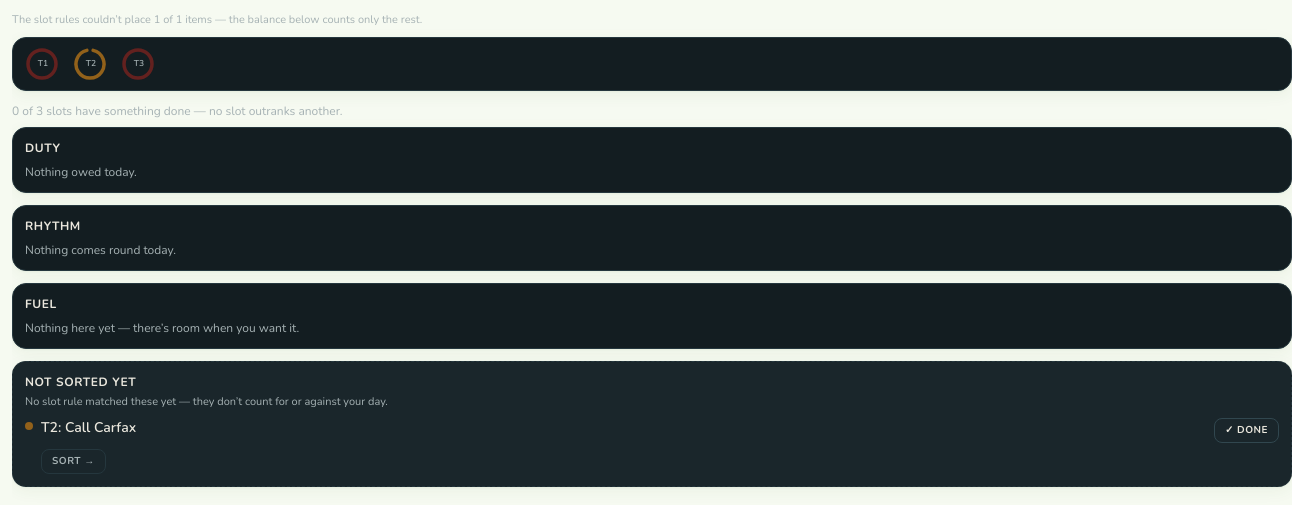
Test: the row moves, and moves honestly › leaves NOT SORTED and appears in its slot on the same render
Check: the element with test id "board-stack-unslotted" is shown, box [12,360,1291,487]
Click the button with test id "board-sort-open".
click(73, 462)  # box [41,449,106,474]
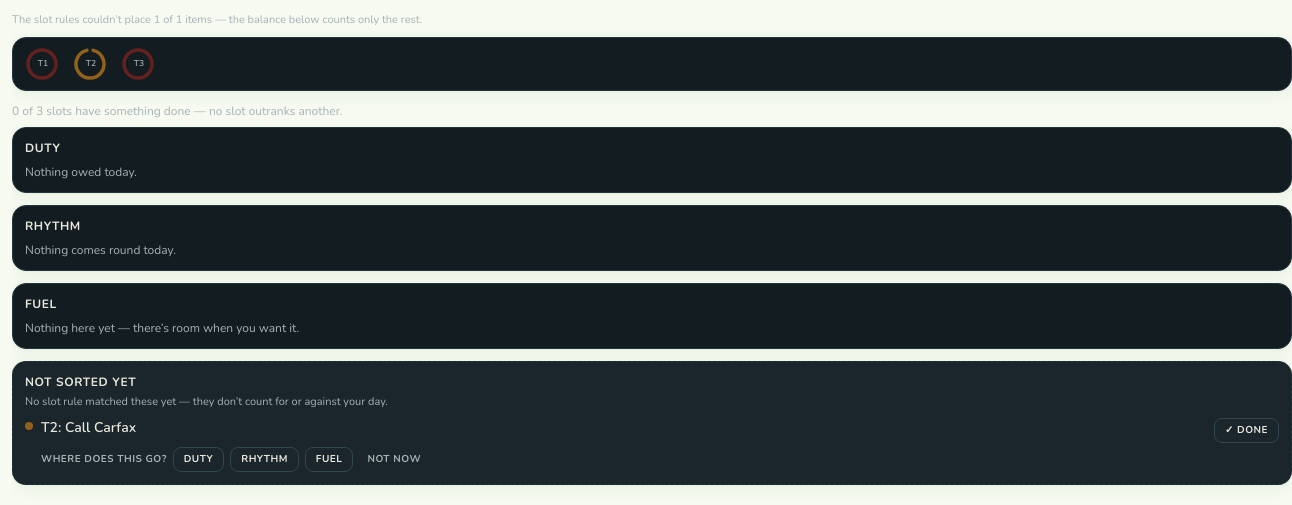
Click the button with test id "board-sort-duty".
click(198, 460)  # box [173,447,224,472]
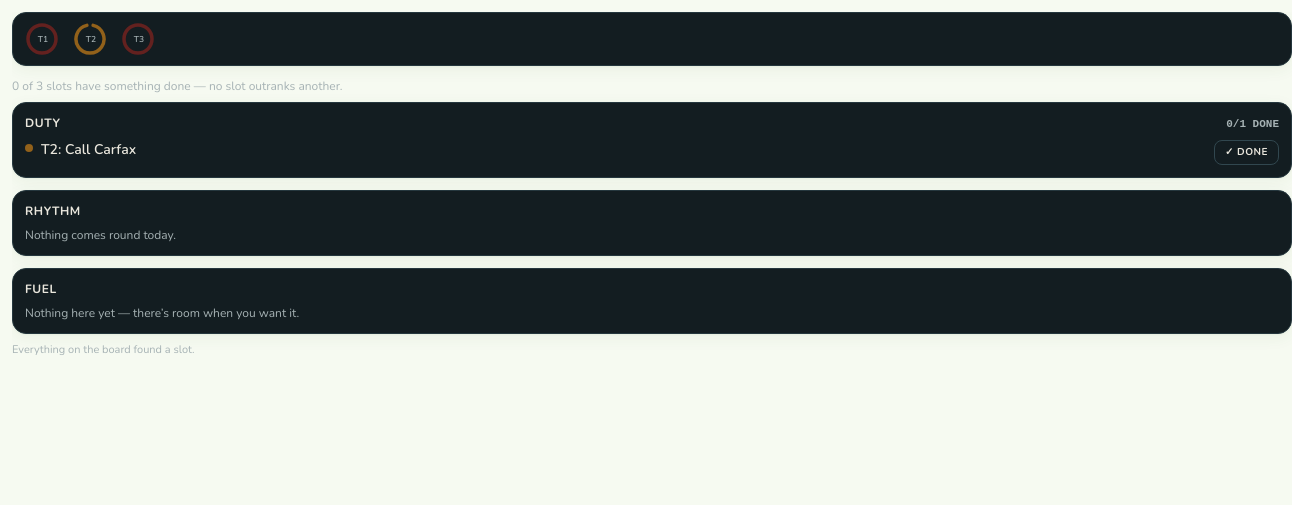
Check: the list with test id "board-today-duty" shows "Call Carfax", box [25,140,1206,160]
Check: the element with test id "board-stack-unslotted" is gone
